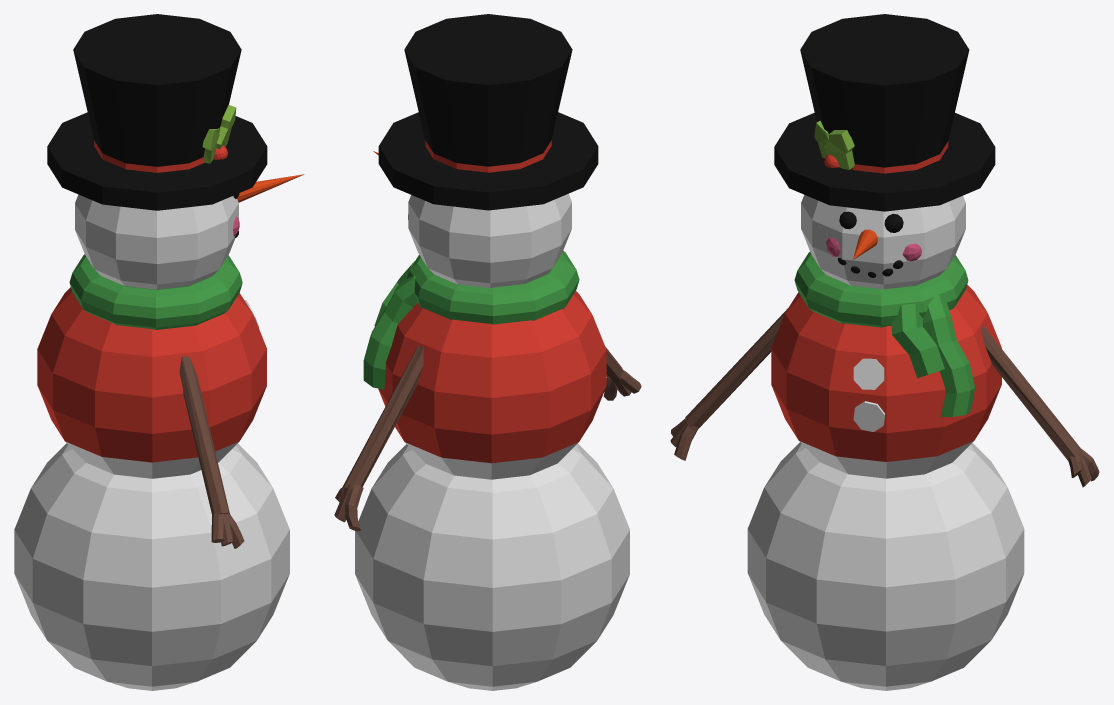
Rendered from snowman.gltf.
The picture shows the model from 3 angles, left to right: view 1: azimuth 30°, elevation 25°; view 2: azimuth 150°, elevation 25°; view 3: azimuth 270°, elevation 25°; orthographic projection.
Parts seen in each view (by area): view 1: node_MeshObject-702059520-PolyPaper21; view 2: node_MeshObject-702059520-PolyPaper21; view 3: node_MeshObject-702059520-PolyPaper21.
Part boxes in pixels (x1=…): node_MeshObject-702059520-PolyPaper21: x1=14, y1=14, x2=304, y2=690; node_MeshObject-702059520-PolyPaper21: x1=334, y1=14, x2=641, y2=690; node_MeshObject-702059520-PolyPaper21: x1=670, y1=14, x2=1099, y2=690.
Size of the model in its own units: 2.26 by 5.28 by 3.26.
